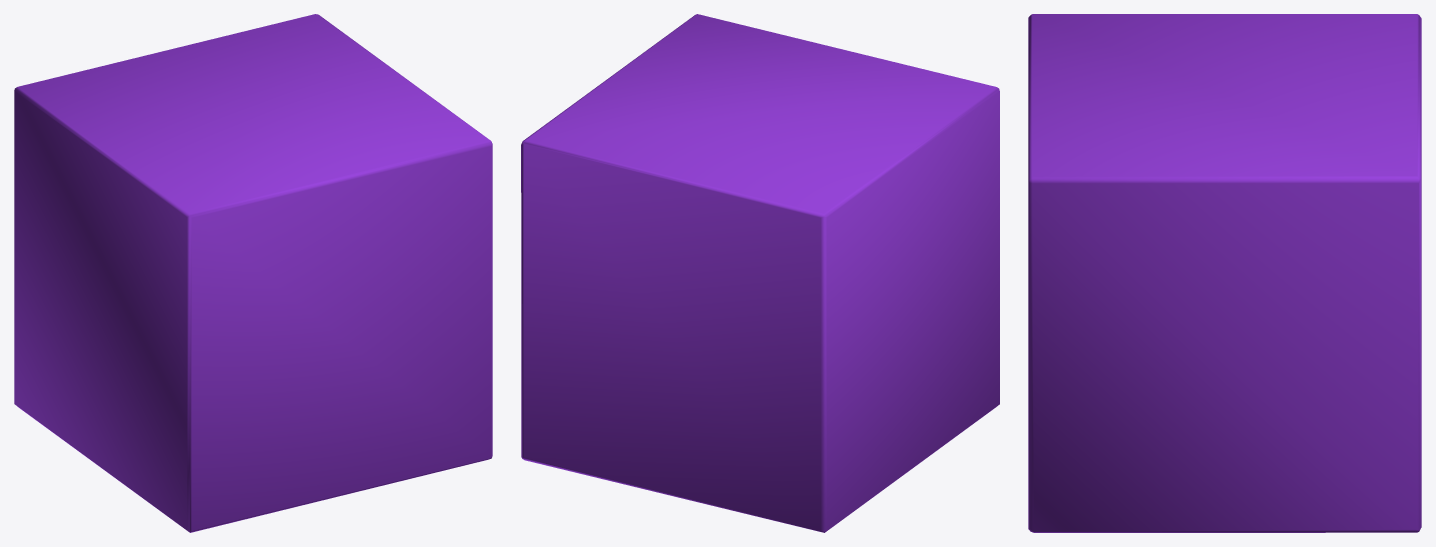
The picture shows the model from 3 angles, left to right: view 1: azimuth 30°, elevation 25°; view 2: azimuth 150°, elevation 25°; view 3: azimuth 270°, elevation 25°; orthographic projection. The views are drawn at different scales.
Parts seen in each view (by area): view 1: Cube; view 2: Cube; view 3: Cube.
Boxes of the visible parts, x1,y1,x2,y2 form: Cube: (14,14,492,532); Cube: (521,14,999,532); Cube: (1028,14,1421,532).
Size of the model in its own units: 1.8 by 1.8 by 1.8.
